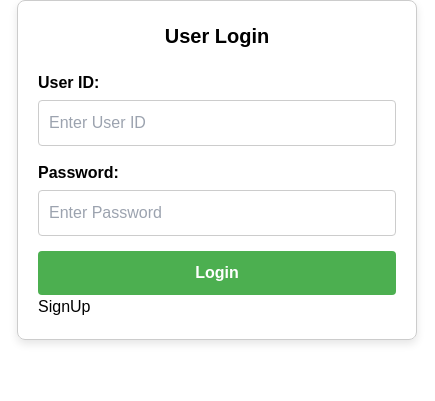
Test case: Login Component › should display invalid message for wrong credentails
Type "hello" into the field with placeholder "Enter User ID" at (217,123), box [38,100,396,146]
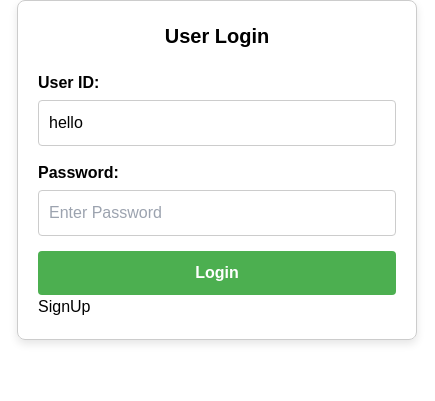
Type "admin123" into the password field with placeholder "Enter Password" at (217,213), box [38,190,396,236]
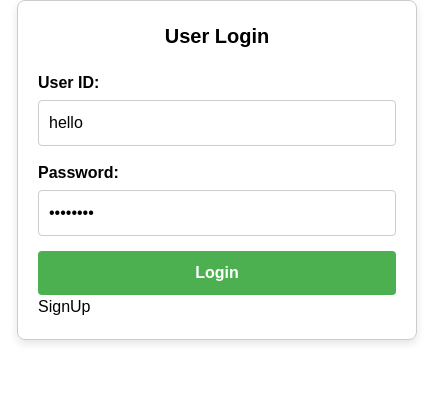
Click the button "Login" at (217,273), box [38,251,396,295]
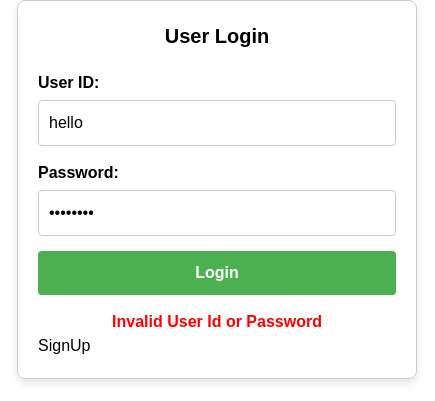
Expected: the text "Invalid User Id or Password" is shown, [112,313,322,330]
